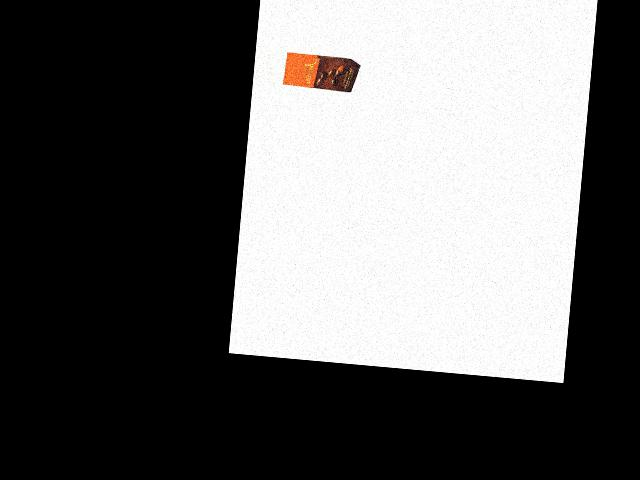chocolate: (282, 50, 360, 97)
